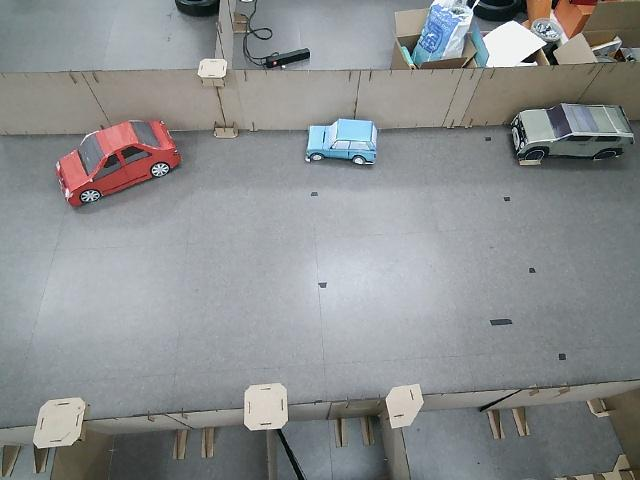car: (55, 119, 180, 208), (513, 103, 635, 162), (306, 119, 378, 164)
